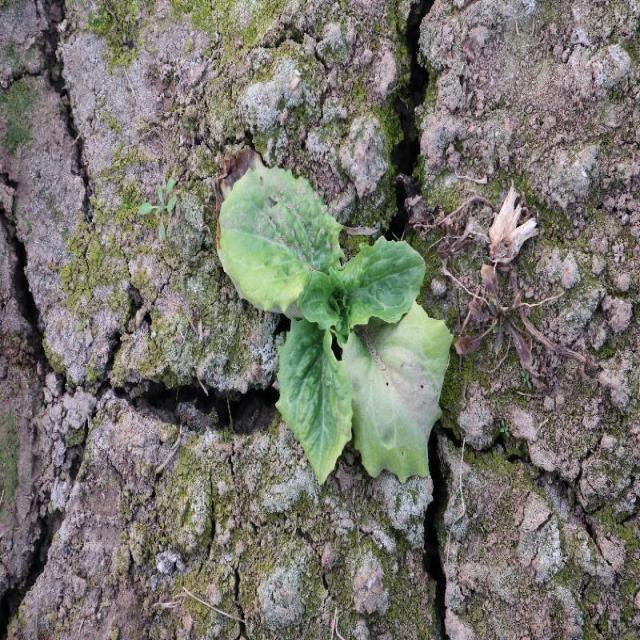crop: (215, 160, 456, 489)
